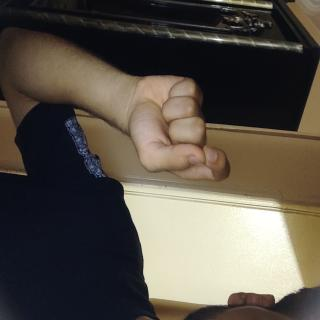FAA: (47, 110, 141, 282)
